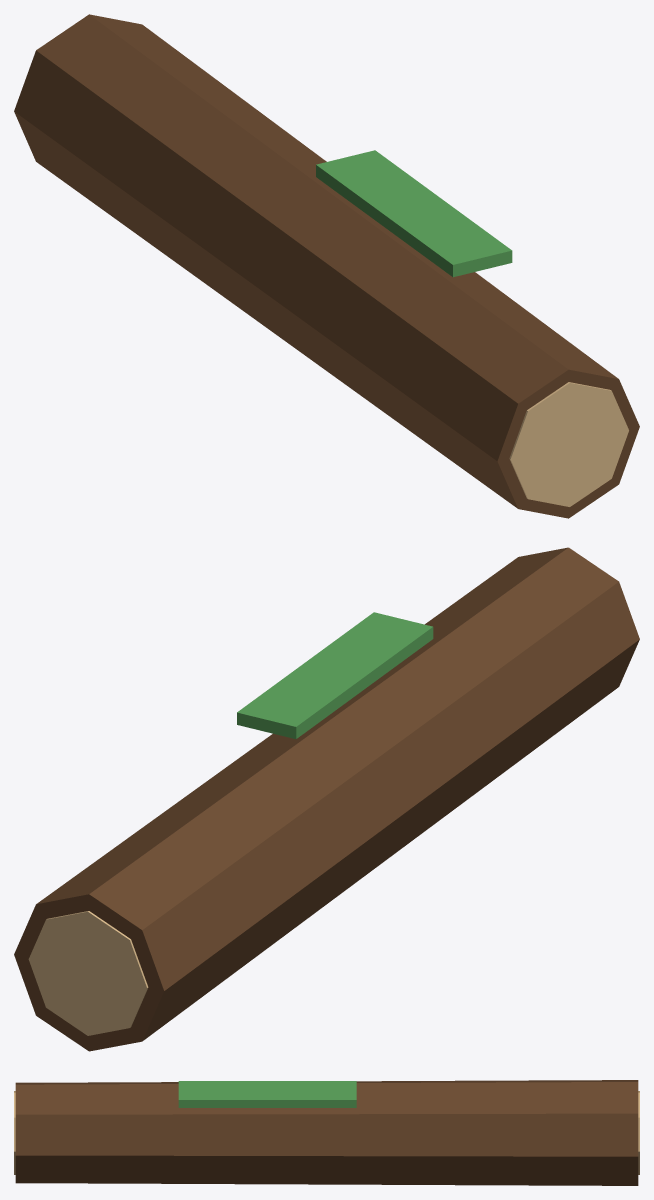
File: fallen-log.glb
The picture shows the model from 3 angles, top to bottom: view 1: azimuth 30°, elevation 25°; view 2: azimuth 150°, elevation 25°; view 3: azimuth 270°, elevation 25°; orthographic projection. The views are drawn at different scales.
Parts seen in each view (by area): view 1: log; view 2: log; view 3: log.
Boxes of the visible parts, x1,y1,x2,y2 form: log: [14, 14, 639, 518]; log: [14, 547, 639, 1051]; log: [14, 1080, 639, 1185].
Size of the model in its own units: 0.7598 by 0.7891 by 4.22.
